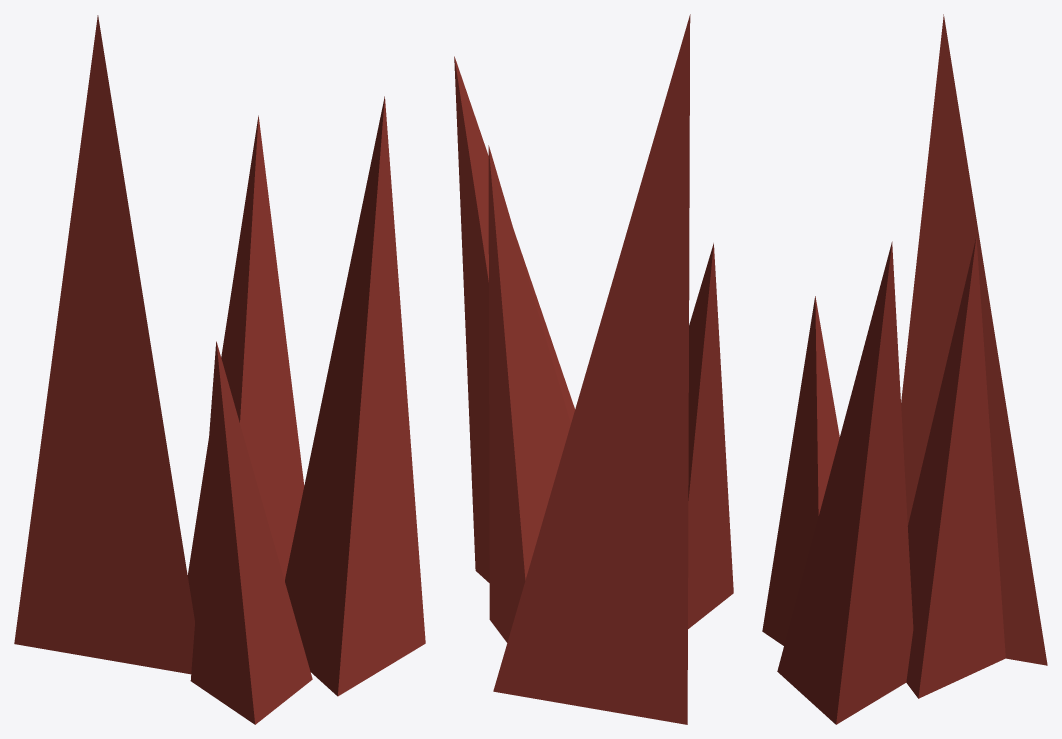
File: Grass_1_Red.fbx
The picture shows the model from 3 angles, left to right: view 1: azimuth 30°, elevation 25°; view 2: azimuth 150°, elevation 25°; view 3: azimuth 270°, elevation 25°; orthographic projection. The views are drawn at different scales.
Parts seen in each view (by area): view 1: Grass_1_Red; view 2: Grass_1_Red; view 3: Grass_1_Red.
Part boxes in pixels (x1,y1,x2,y2): Grass_1_Red: (14,15,425,724); Grass_1_Red: (454,14,733,724); Grass_1_Red: (762,14,1047,724).
Size of the model in its own units: 27.2 by 54.81 by 23.94.
